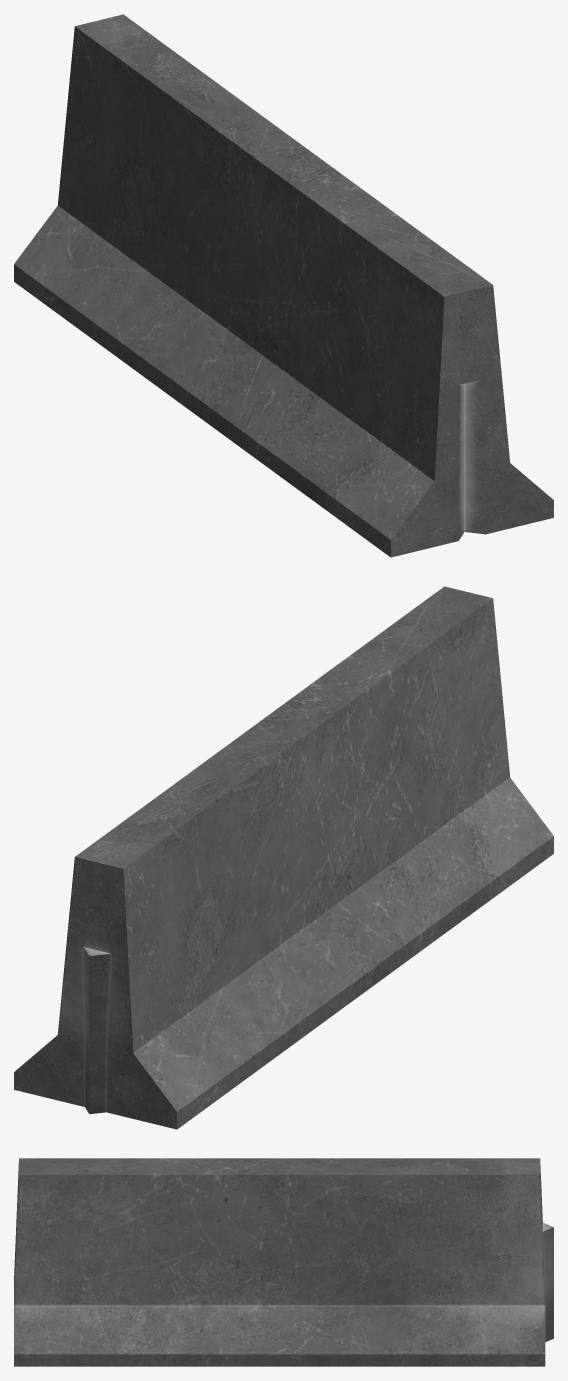
File: jersey.glb
The picture shows the model from 3 angles, top to bottom: view 1: azimuth 30°, elevation 25°; view 2: azimuth 150°, elevation 25°; view 3: azimuth 270°, elevation 25°; orthographic projection. The views are drawn at different scales.
Visible parts, largest first — view 1: jersey; view 2: jersey; view 3: jersey.
Boxes of the visible parts, x1,y1,x2,y2 form: jersey: [14, 14, 553, 557]; jersey: [14, 586, 553, 1129]; jersey: [14, 1158, 553, 1366].
Bounding box in the file's own units: 0.6643 × 0.95 × 2.7.
1 material, 1 textured.
